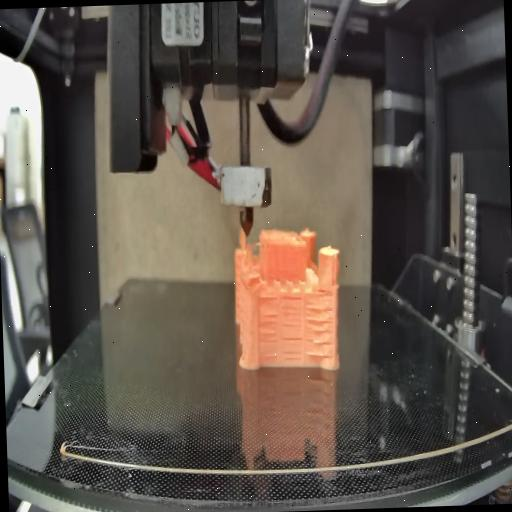cracks: (304, 306, 334, 364), (280, 293, 302, 364), (256, 308, 279, 366), (314, 283, 332, 298), (255, 296, 276, 304)
